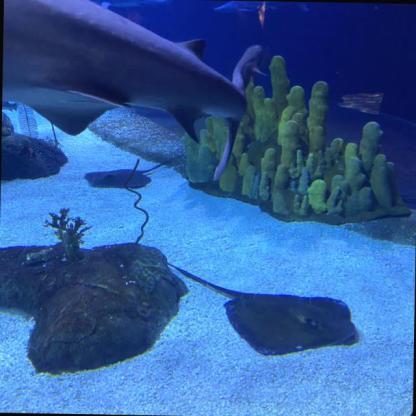shark: (0, 0, 258, 185), (206, 0, 311, 16)
stingray: (224, 286, 362, 362), (76, 167, 153, 192)
